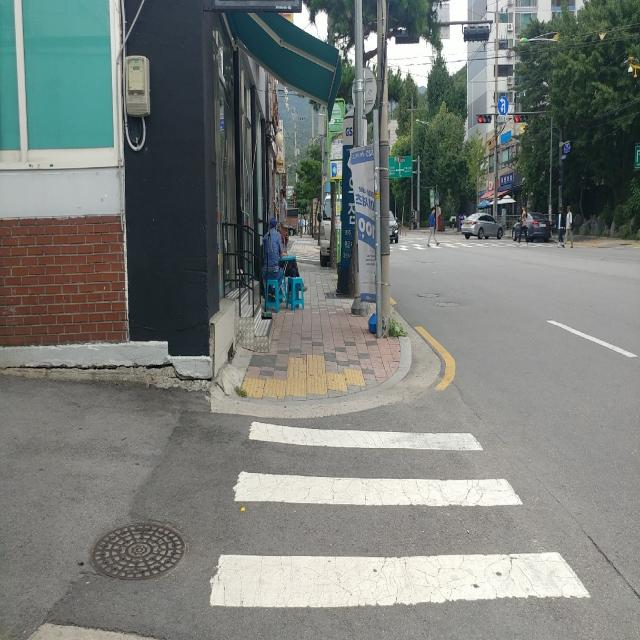횡단보도: (210, 421, 591, 606), (398, 242, 492, 249)
